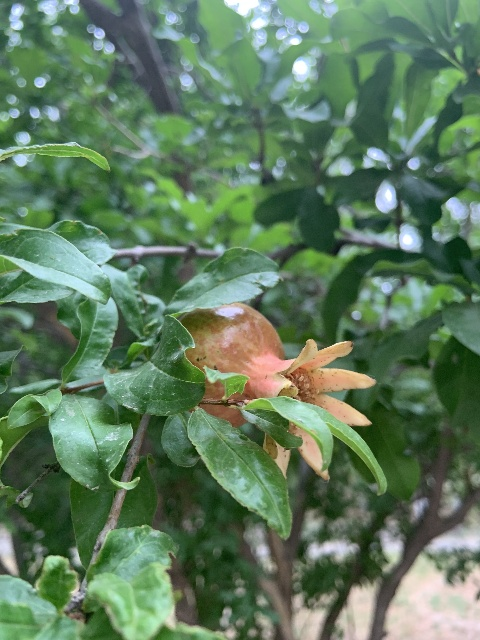early-fruit: (180, 302, 376, 482)
